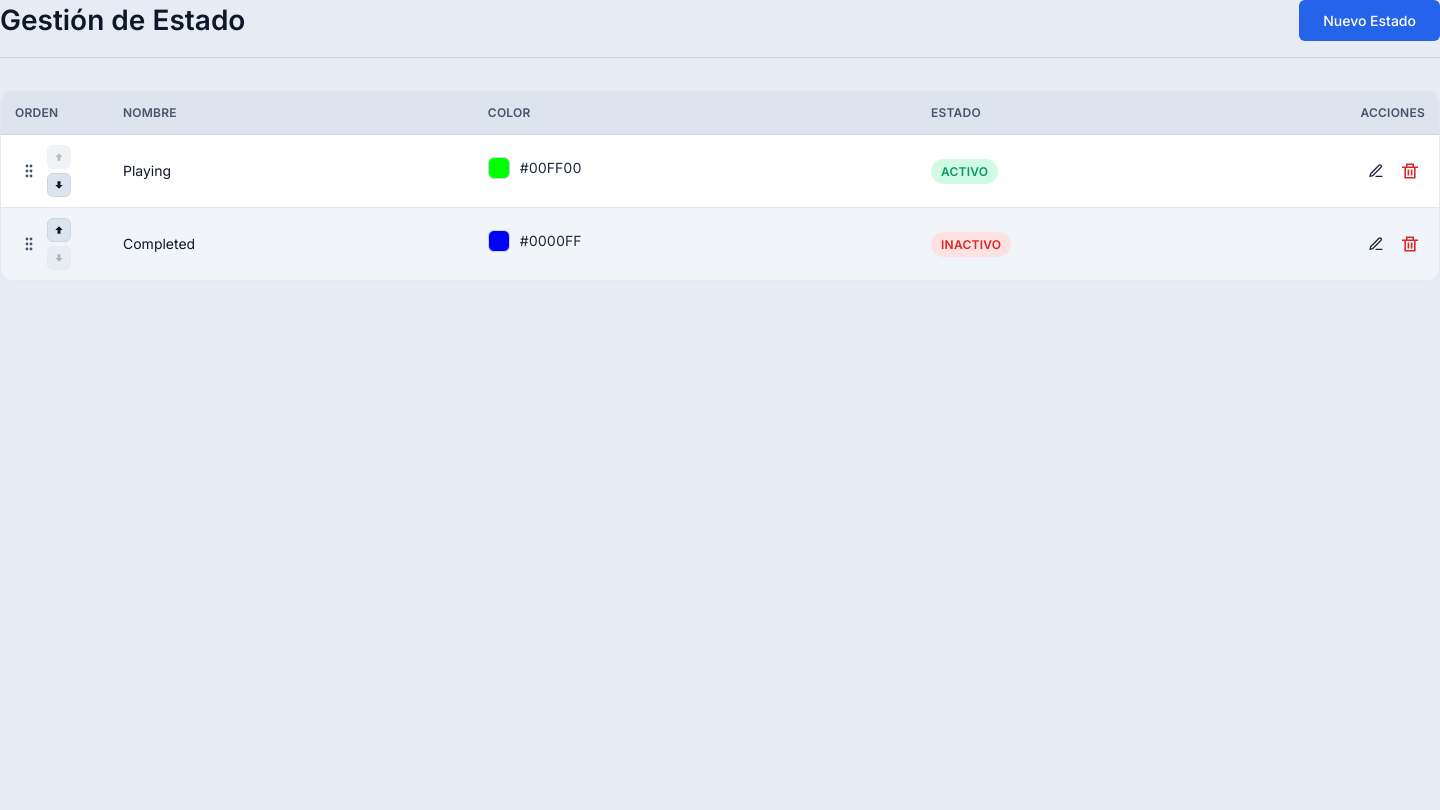
Test: AdminStatus › opens create modal
Step 1. Click the button "Nuevo Estado" → x=1370, y=20, box top-left (1299, 0), bottom-right (1439, 41)
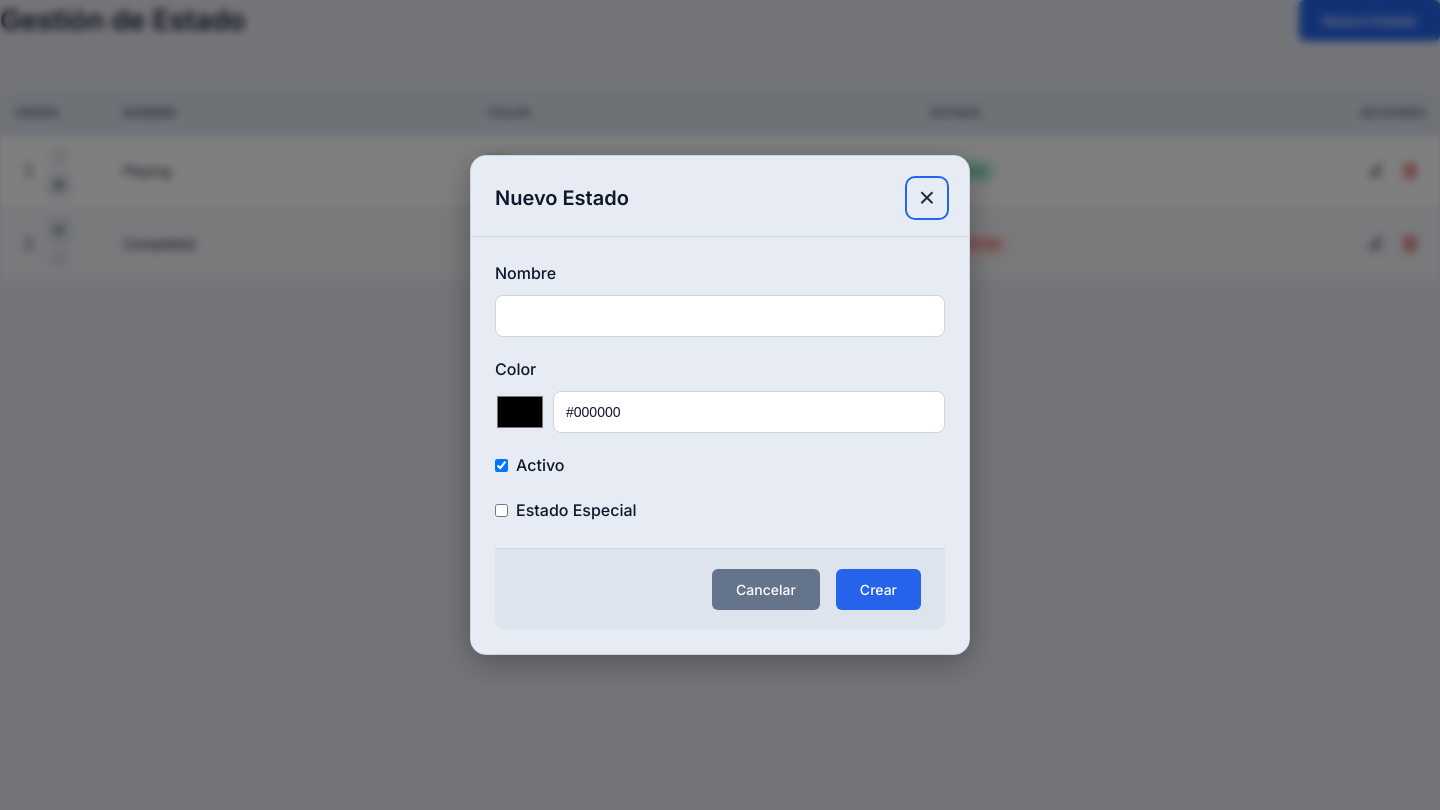
Check: the heading "Nuevo Estado" is shown, box top-left (495, 186), bottom-right (629, 210)
